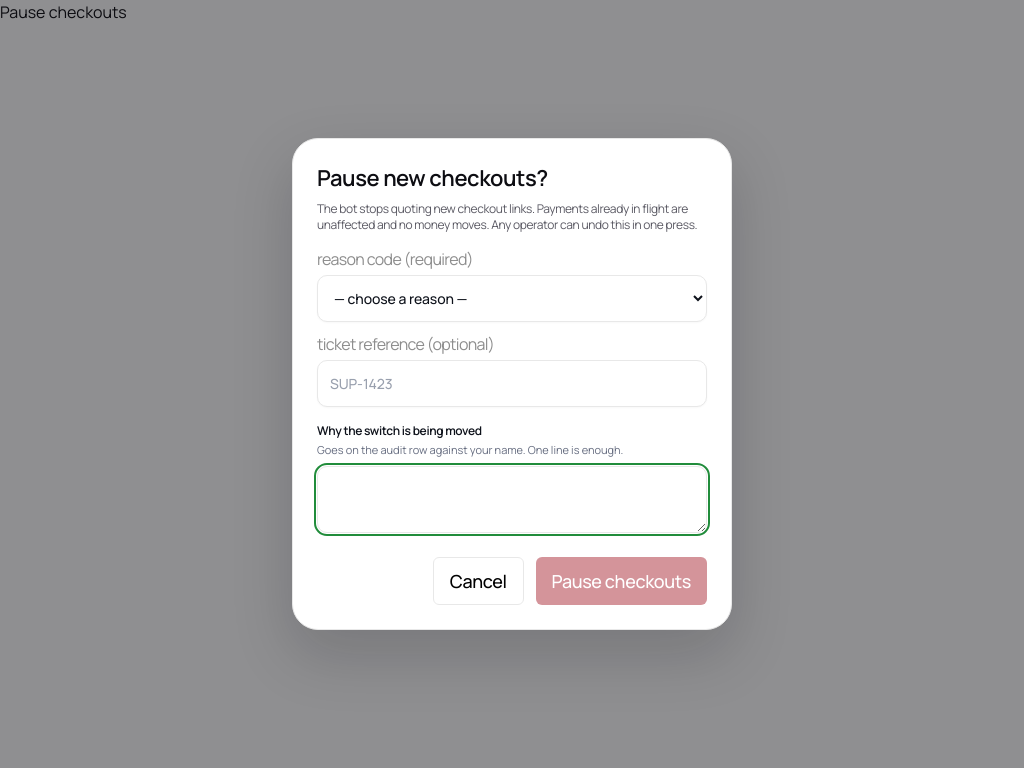
RailPauseDialog › withholds the confirm until a reason code is chosen
Check: the button "Pause checkouts" is disabled, box [536,558,707,606]
Select "incident" in the dropdown with test id "reason-code": (512, 299) [317,275,707,322]
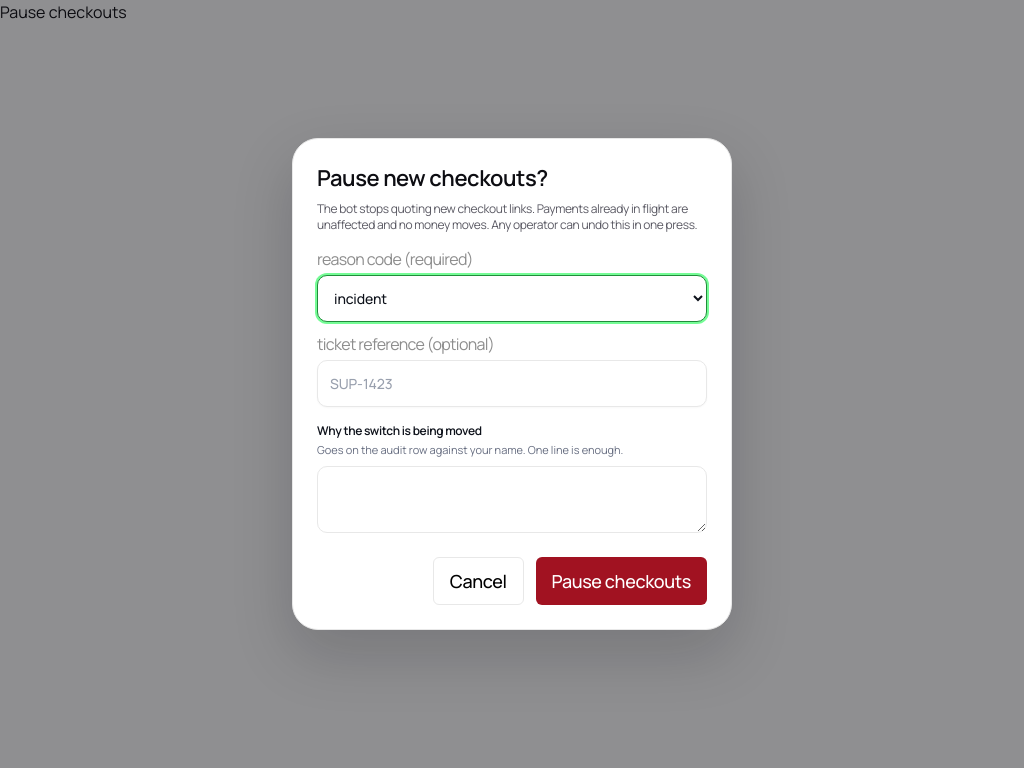
Check: the button "Pause checkouts" is enabled, box [536,558,707,606]
